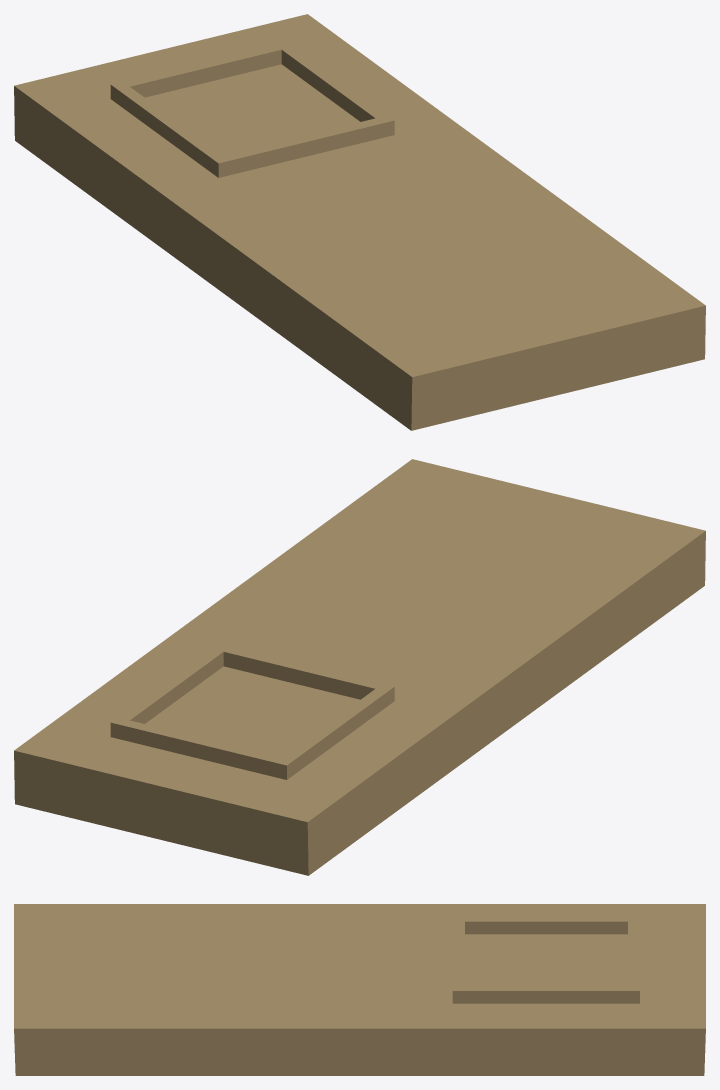
The model's file is NadgroybPlitaNadp.fbx.
3 views of the same model, one above another, from view 1: azimuth 30°, elevation 25°; view 2: azimuth 150°, elevation 25°; view 3: azimuth 270°, elevation 25° (orthographic). The views are drawn at different scales.
Visible parts, largest first — view 1: Cube.006; view 2: Cube.006; view 3: Cube.006.
Boxes of the visible parts, left/top/right/bottom form: Cube.006: left=14, top=14, right=705, bottom=430; Cube.006: left=14, top=459, right=705, bottom=875; Cube.006: left=14, top=904, right=705, bottom=1075.
Size of the model in its own units: 121 by 27.23 by 285.
